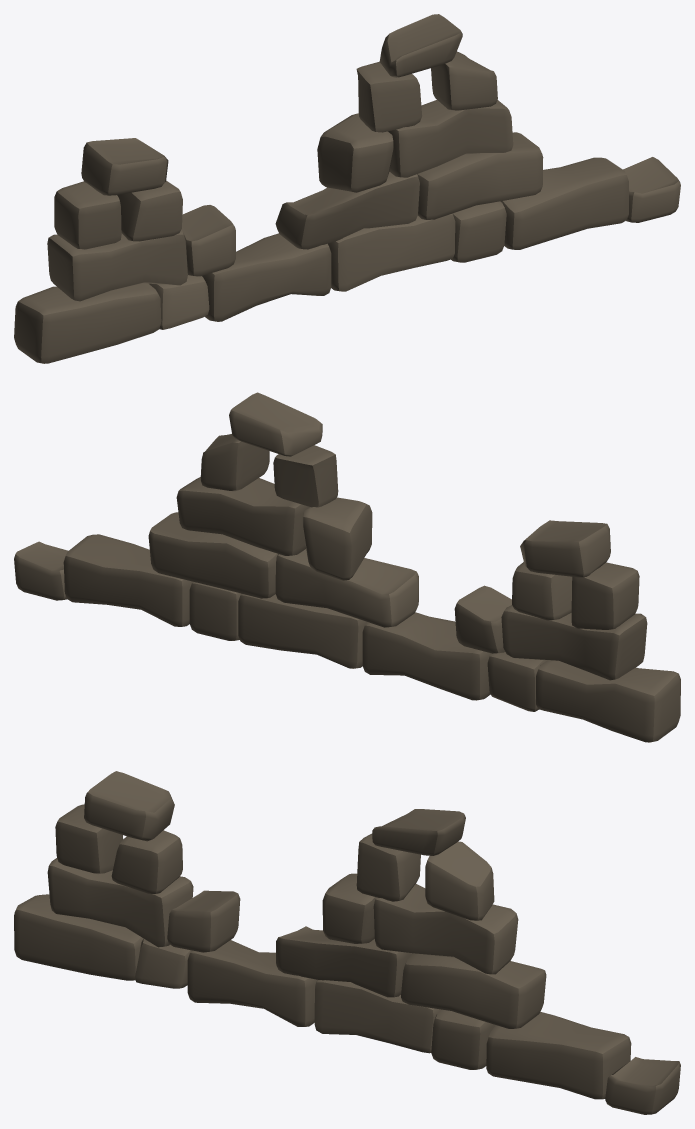
The model's file is broken wall 1.fbx.
The picture shows the model from 3 angles, top to bottom: view 1: azimuth 30°, elevation 25°; view 2: azimuth 150°, elevation 25°; view 3: azimuth 330°, elevation 25°; orthographic projection.
Visible parts, largest first — view 1: pCube31; view 2: pCube31; view 3: pCube31.
Boxes of the visible parts, x1,y1,x2,y2 form: pCube31: [14, 14, 680, 363]; pCube31: [14, 392, 680, 742]; pCube31: [14, 771, 680, 1114].
Bounding box in the file's own units: 648 × 225 × 62.89.
